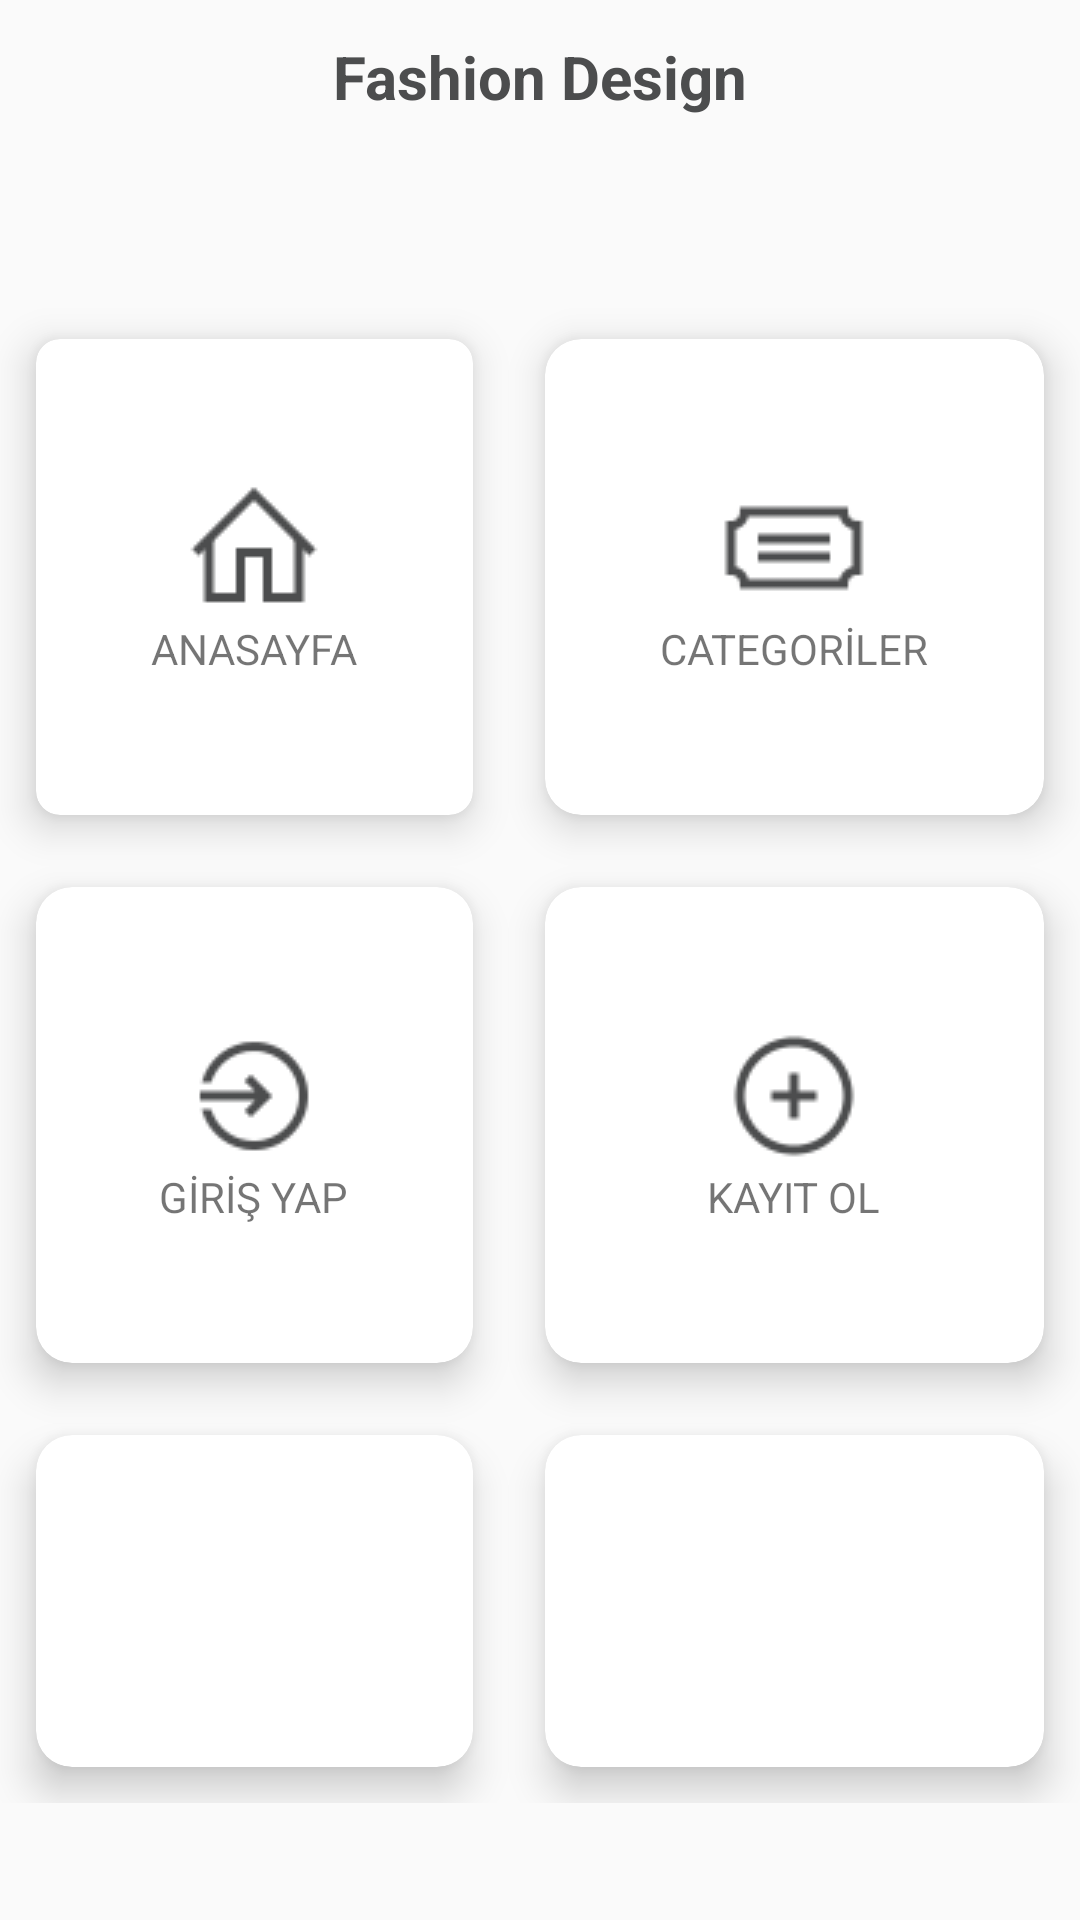

Point at icon controls on the screen. Image size 1080px×1920px, points as (x,y).
add: (794,1096)
